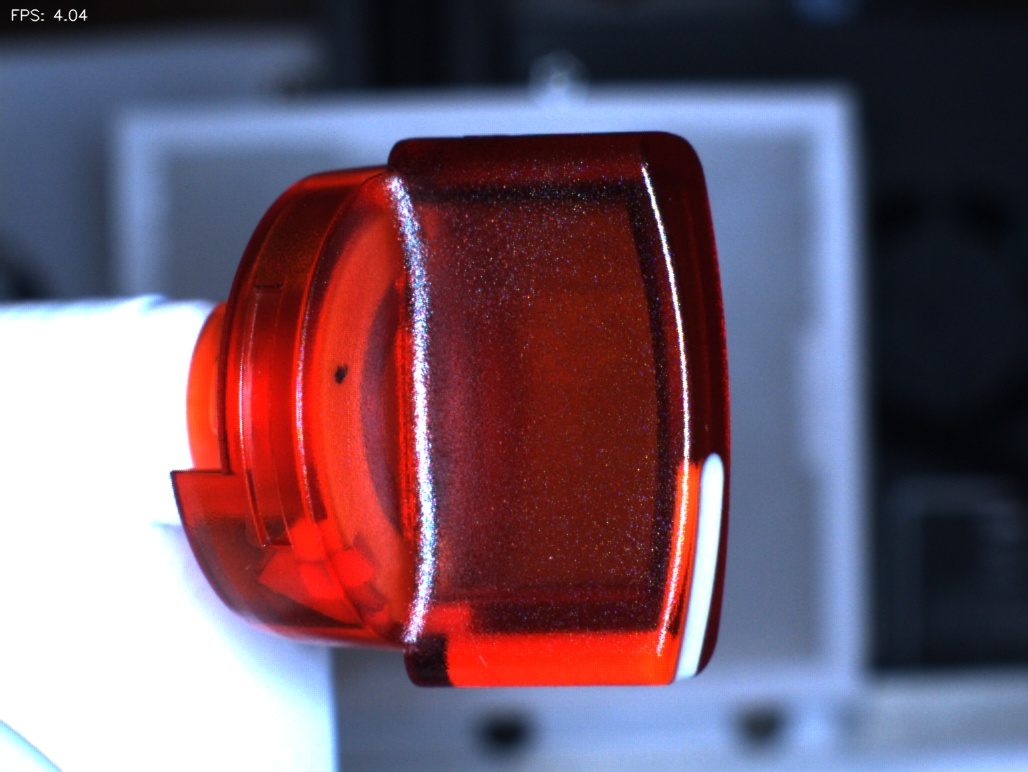PointNoir: (309, 339, 373, 416)
